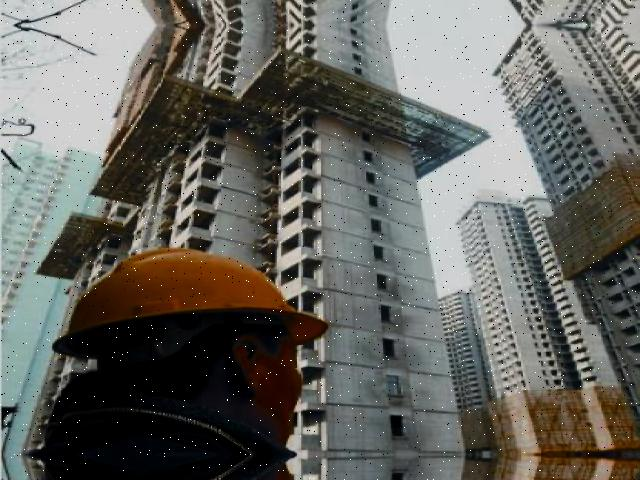Helmet: (43, 242, 331, 360)
